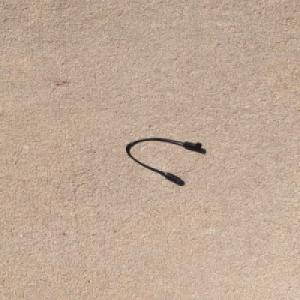Wire: (122, 136, 203, 183)
